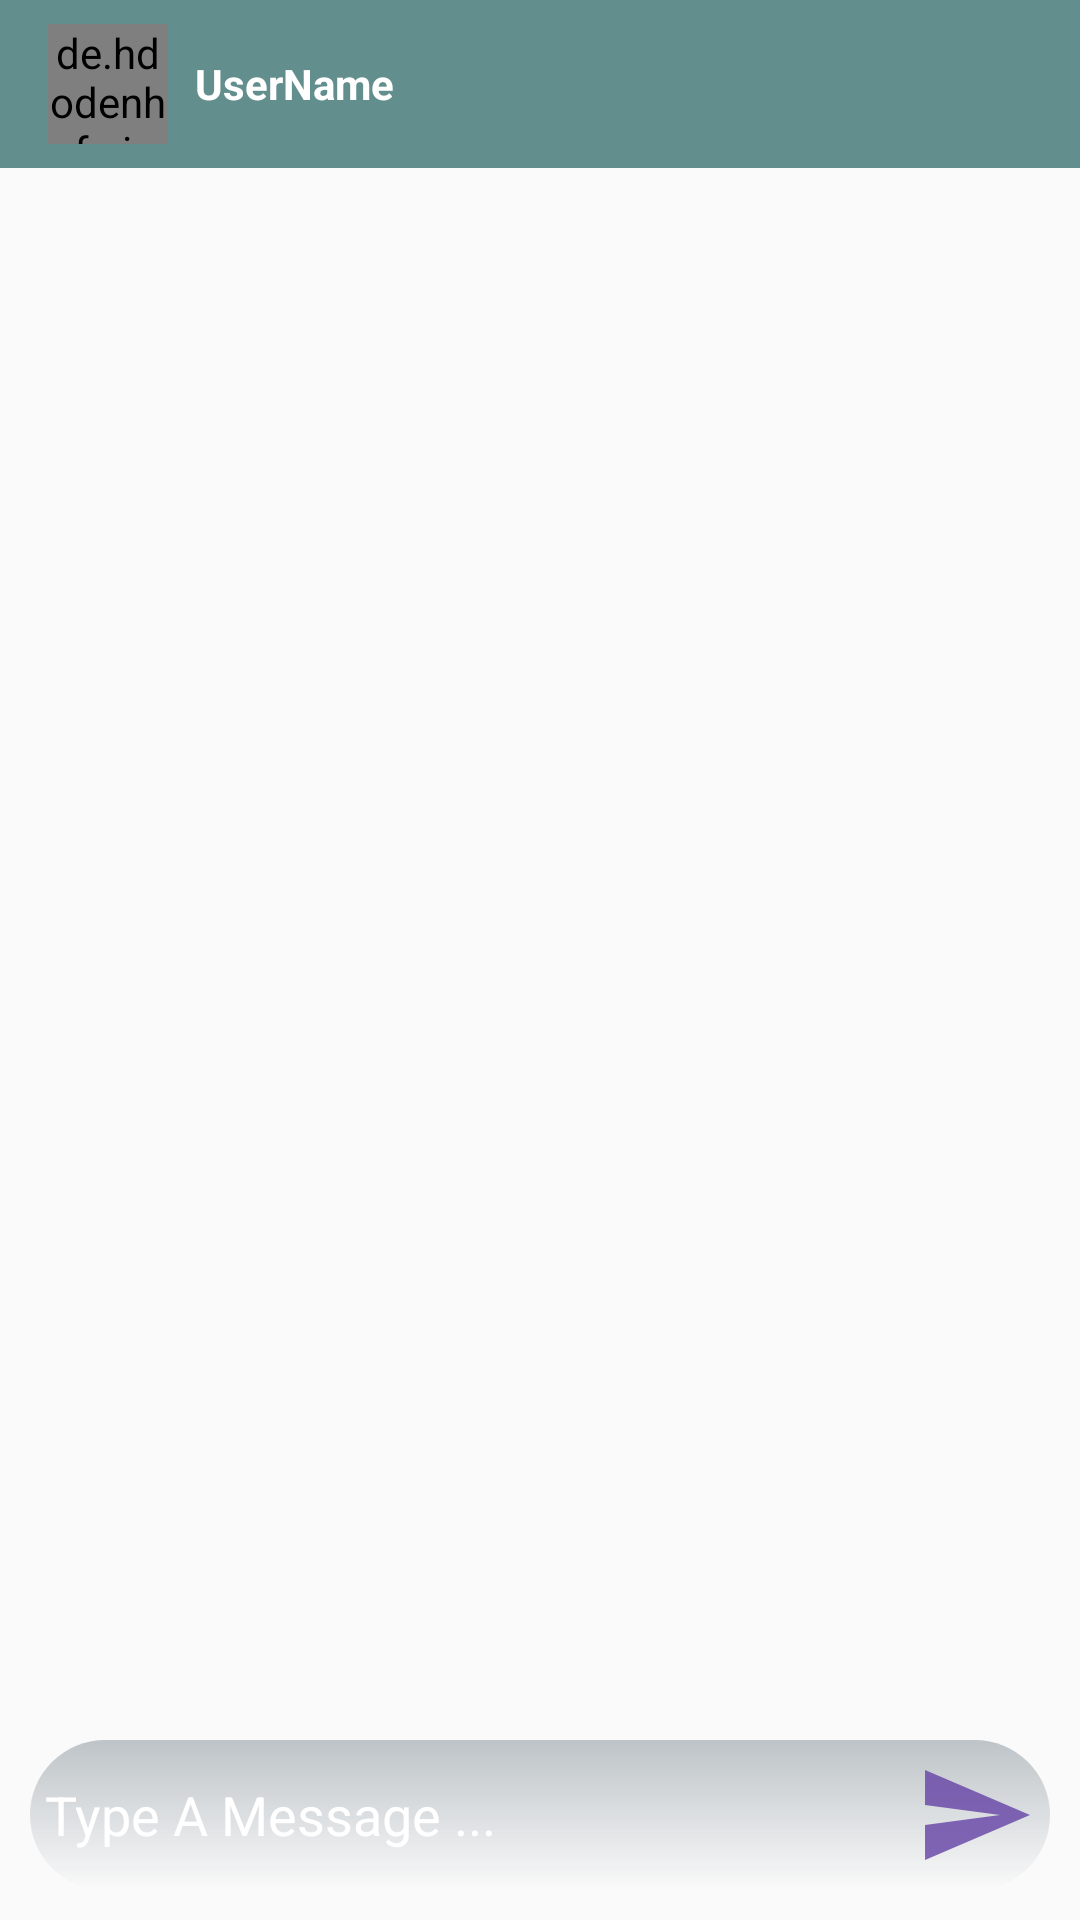

Icons on this 1080 × 1920 Android screen, each with the point to tap as (x=x, y=y):
send: (x=975, y=1815)
